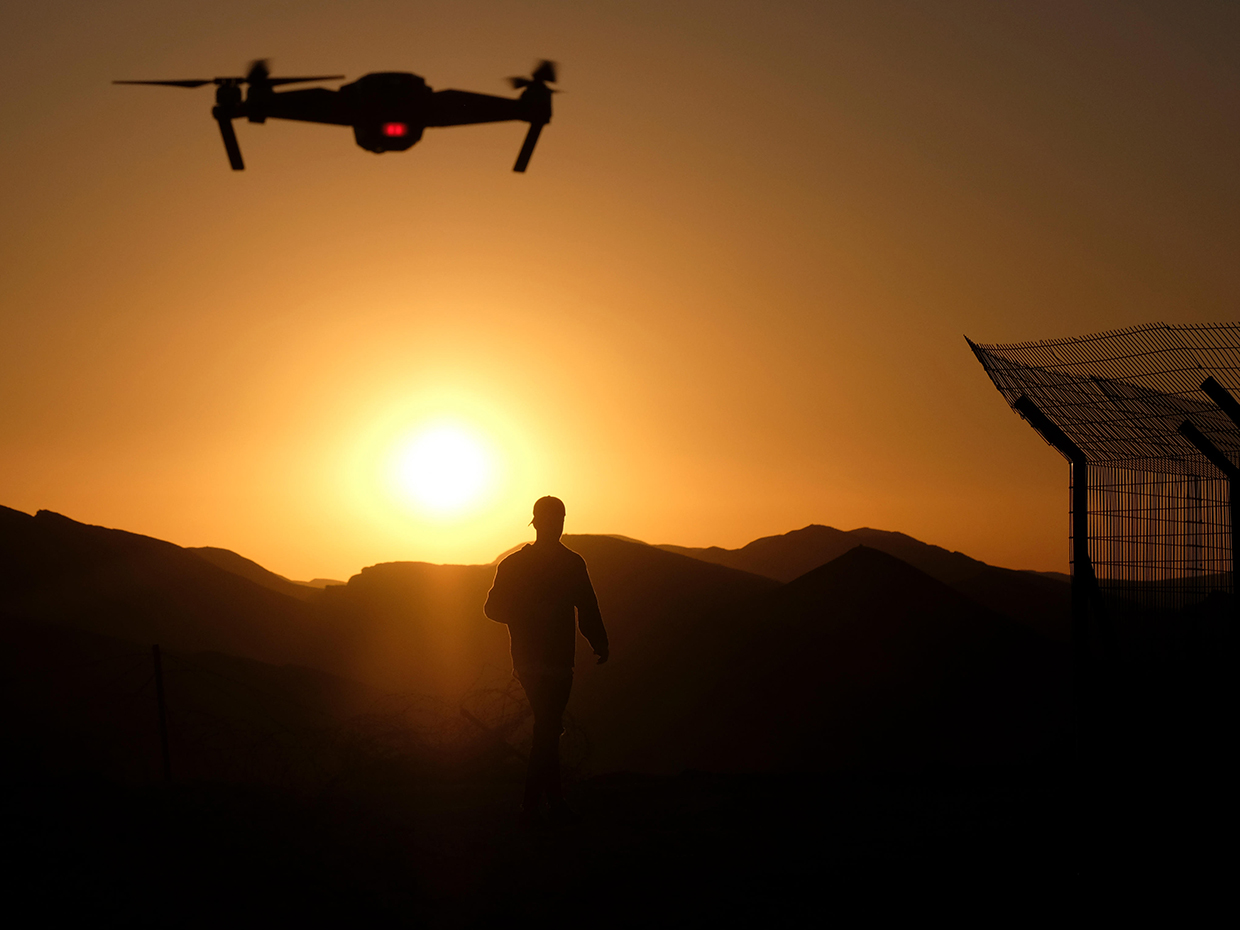drone: (106, 47, 580, 190)
person: (473, 492, 623, 801)
